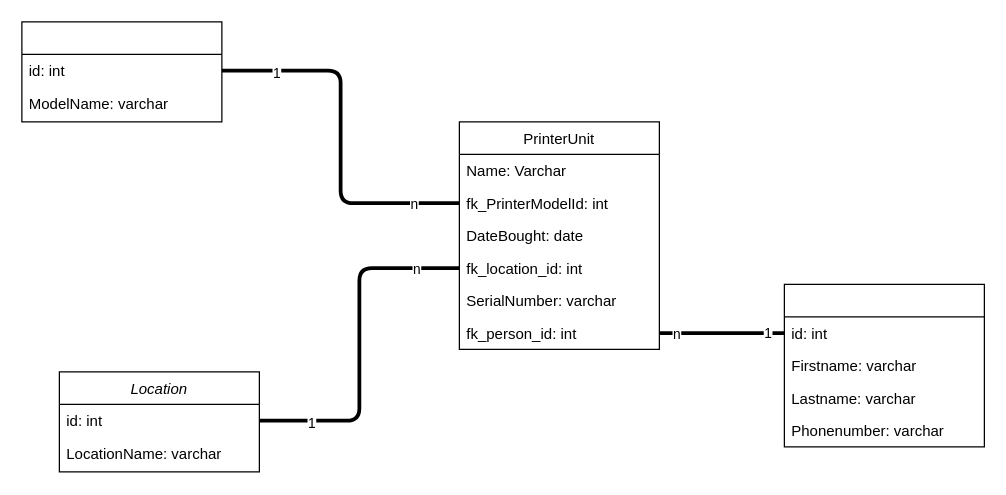
This 1006x495 diagram has some shape labels left out. The shapes that lost their labels are listed below. From the top down, each one's box as (x1, y1, x2, y2) in pixels, then its label:
(21, 21, 222, 122): PrinterModel
(783, 283, 984, 447): Person
